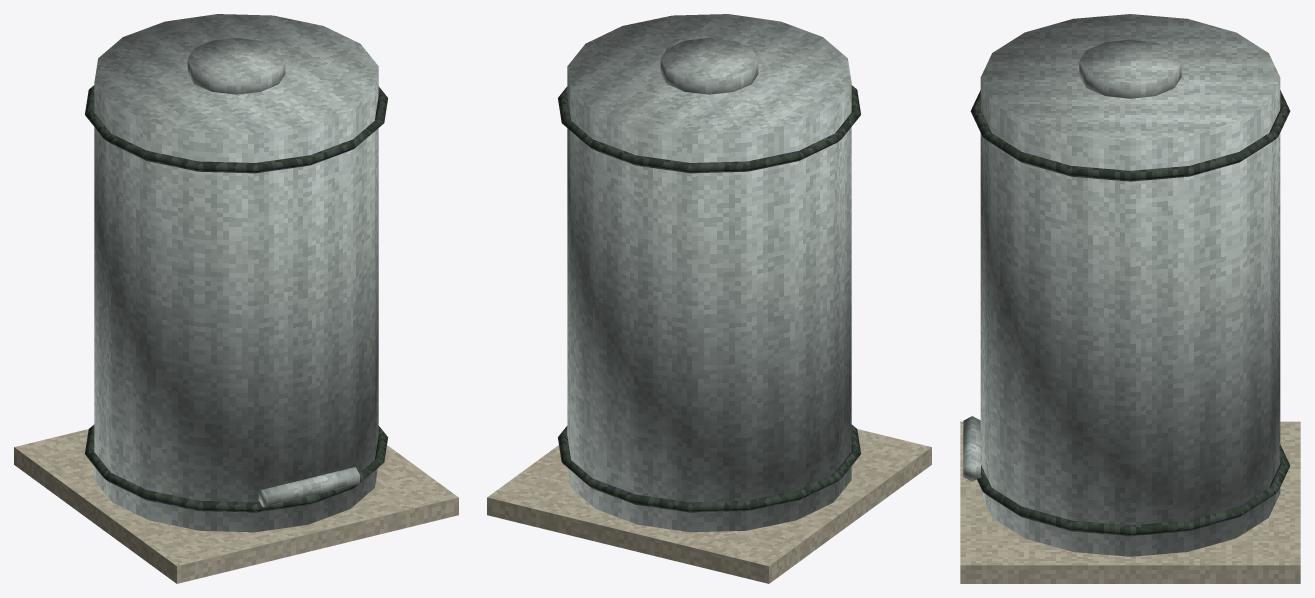
Rendered from water_tank.glb.
3 renders of one model, left to right at view 1: azimuth 30°, elevation 25°; view 2: azimuth 150°, elevation 25°; view 3: azimuth 270°, elevation 25°, orthographic. The views are drawn at different scales.
Parts seen in each view (by area): view 1: parcel_water_tank metal, parcel_water_tank concrete, parcel_water_tank dark; view 2: parcel_water_tank metal, parcel_water_tank concrete, parcel_water_tank dark; view 3: parcel_water_tank metal, parcel_water_tank concrete, parcel_water_tank dark.
Part boxes in pixels (box(x1,y1,x2,y2)): parcel_water_tank metal: box(94, 14, 378, 532); parcel_water_tank concrete: box(14, 429, 458, 583); parcel_water_tank dark: box(85, 85, 387, 512); parcel_water_tank metal: box(567, 14, 851, 532); parcel_water_tank concrete: box(487, 429, 931, 583); parcel_water_tank dark: box(558, 85, 860, 512); parcel_water_tank metal: box(963, 14, 1280, 556); parcel_water_tank concrete: box(960, 421, 1300, 583); parcel_water_tank dark: box(970, 90, 1290, 536).
Size of what is drawn, in the model's own units: 2 by 2.93 by 2.
Materials: 3 (3 with a texture image).
